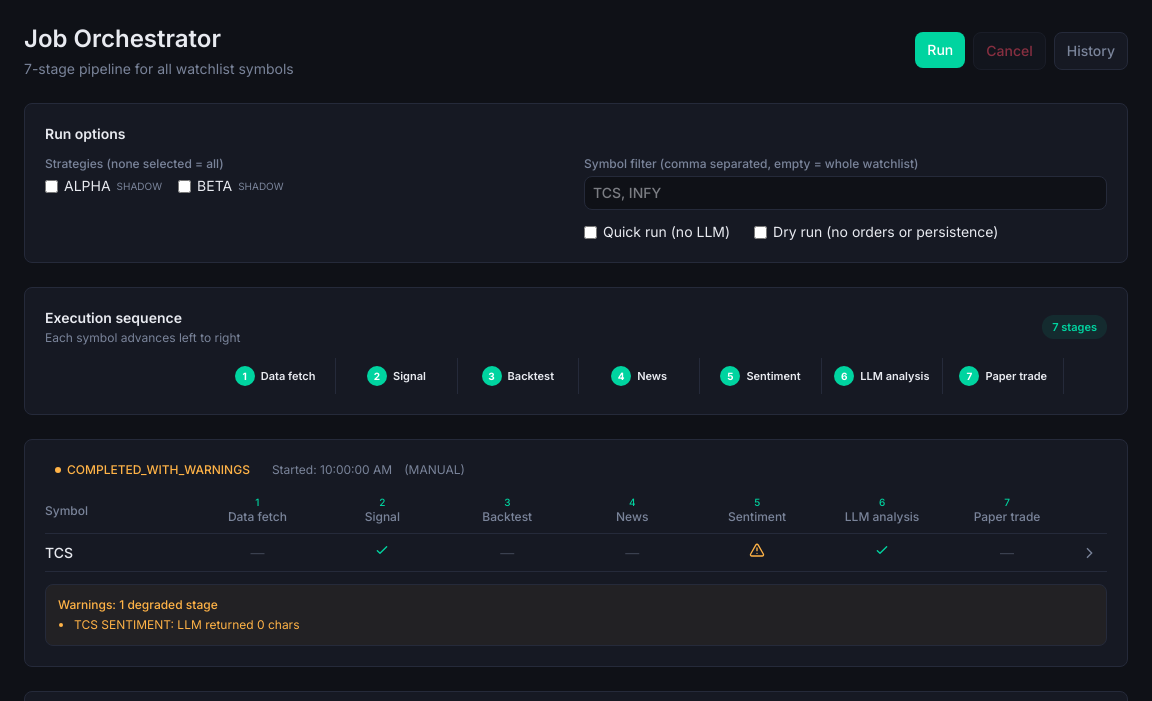
Test: OrchestratorView run detail › shows LLM vs keyword-fallback source with the degraded reason in stage cards
Click the row "TCS — — — —". click: point(576, 553)
box: 45,534 -> 1107,572
(page scrolled)
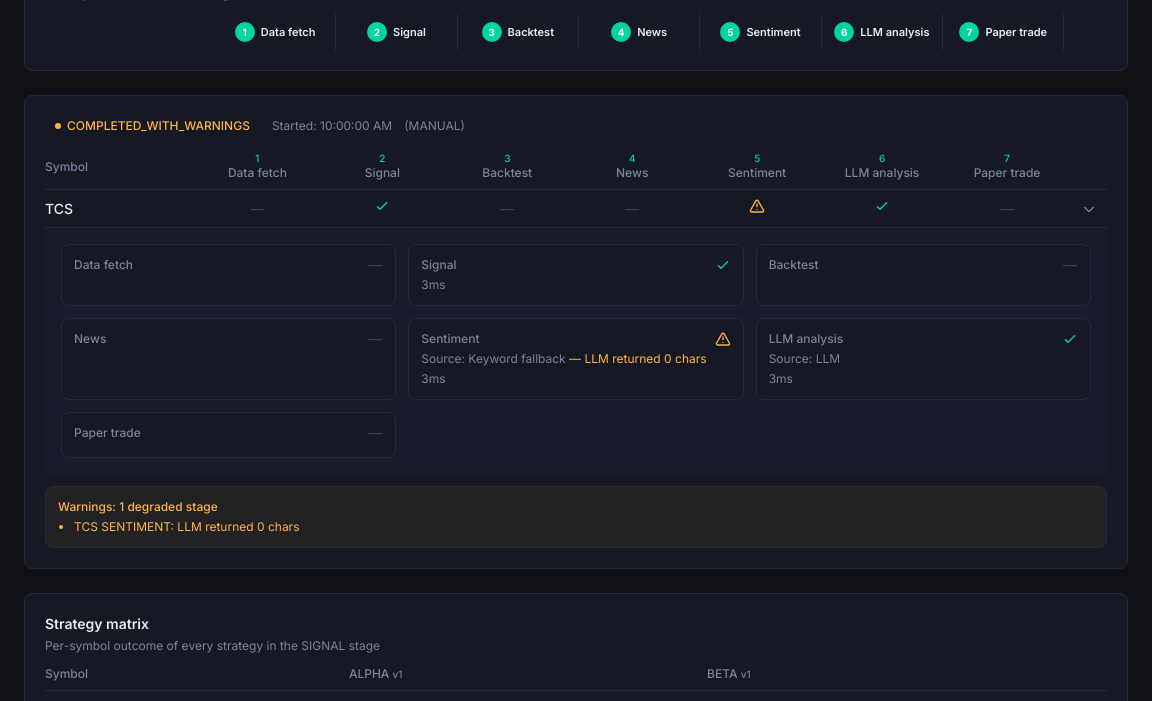
Check: the element with test id "stage-card-SENTIMENT" shows "Keyword fallback", box 421,351 -> 569,366
Check: the element with test id "stage-card-SENTIMENT" shows "LLM returned 0 chars", box 569,351 -> 707,366
Check: the element with test id "stage-card-LLM_ANALYSIS" shows "Source: LLM", box 769,351 -> 840,366
